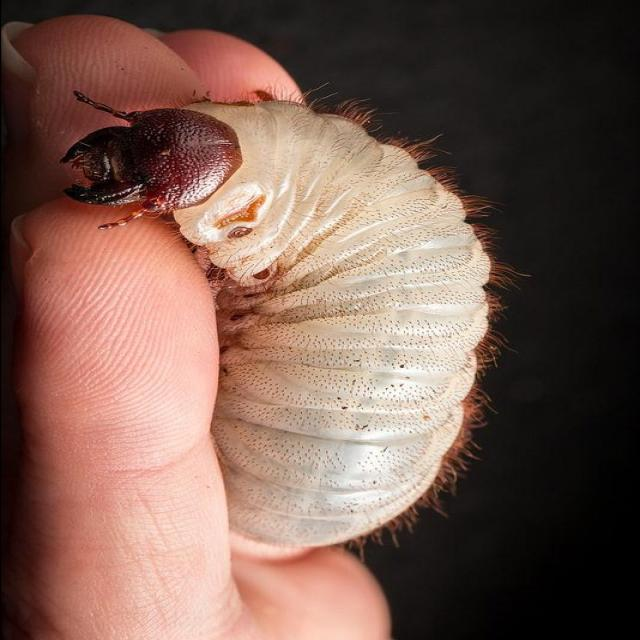grub: (69, 97, 525, 556)
